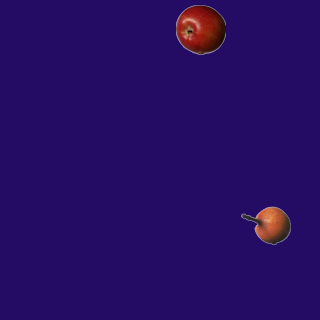Apple Braeburn: (175, 4, 225, 54)
Granadilla: (240, 200, 290, 250)
